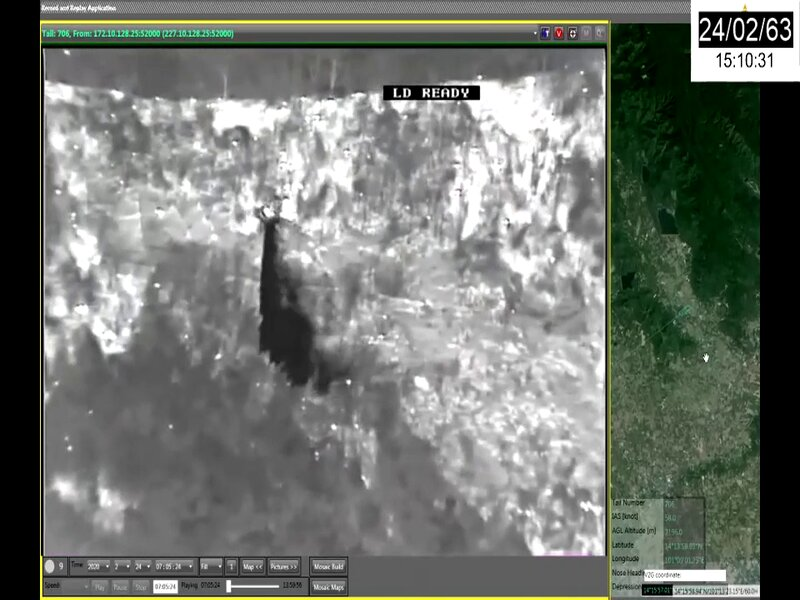Fire: (480, 77, 604, 303)
